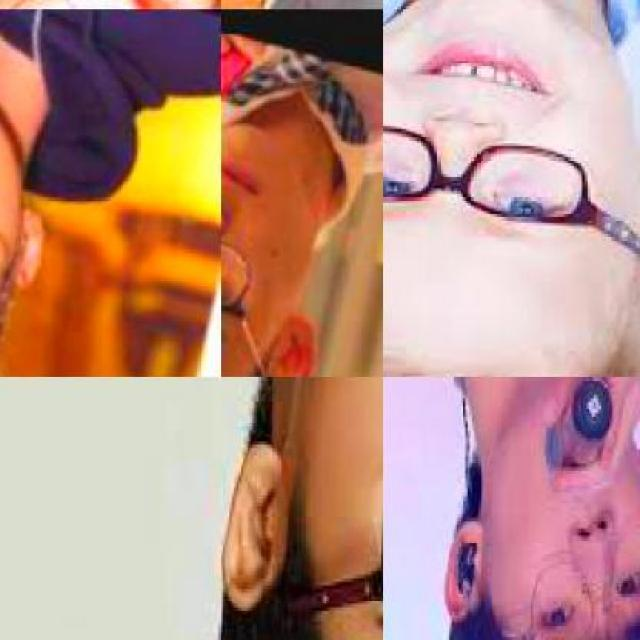glasses: (383, 133, 617, 230), (514, 534, 638, 638), (220, 242, 299, 376)
